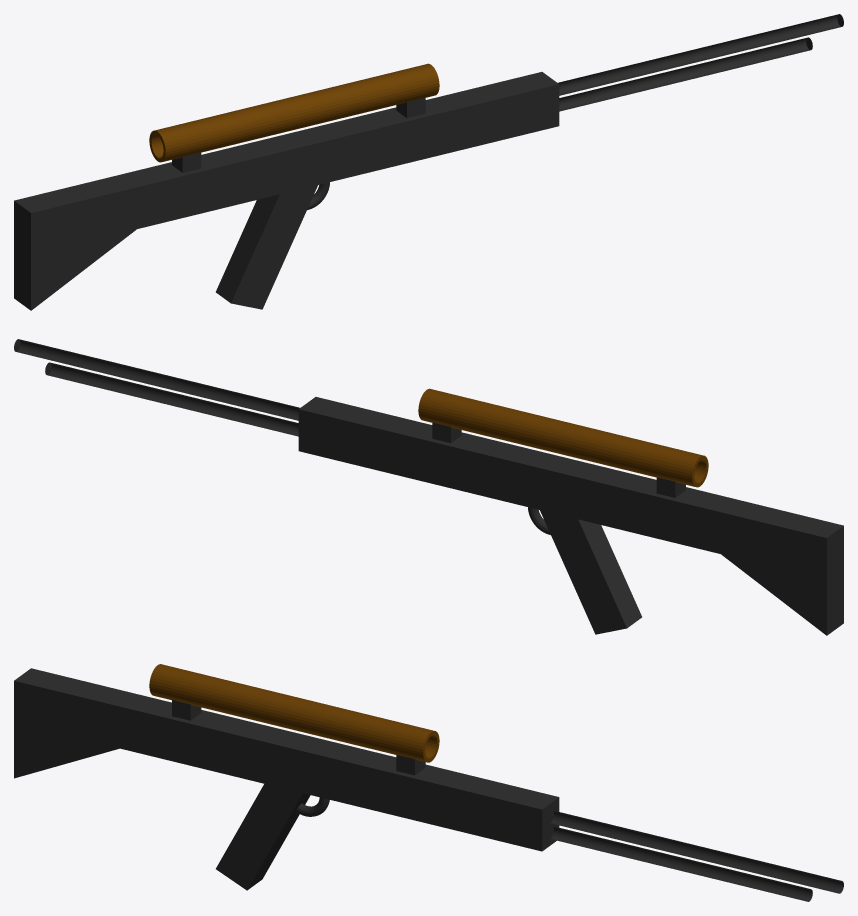
File: sniper.fbx
3 views of the same model, one above another, from view 1: azimuth 30°, elevation 25°; view 2: azimuth 150°, elevation 25°; view 3: azimuth 330°, elevation 25° (orthographic).
Parts seen in each view (by area): view 1: Cube; view 2: Cube; view 3: Cube.
Boxes of the visible parts, <box> form: Cube: <box>14,14,843,310</box>; Cube: <box>14,339,843,635</box>; Cube: <box>14,664,843,901</box>.
Bounding box in the file's own units: 2440 × 559 × 88.57.
